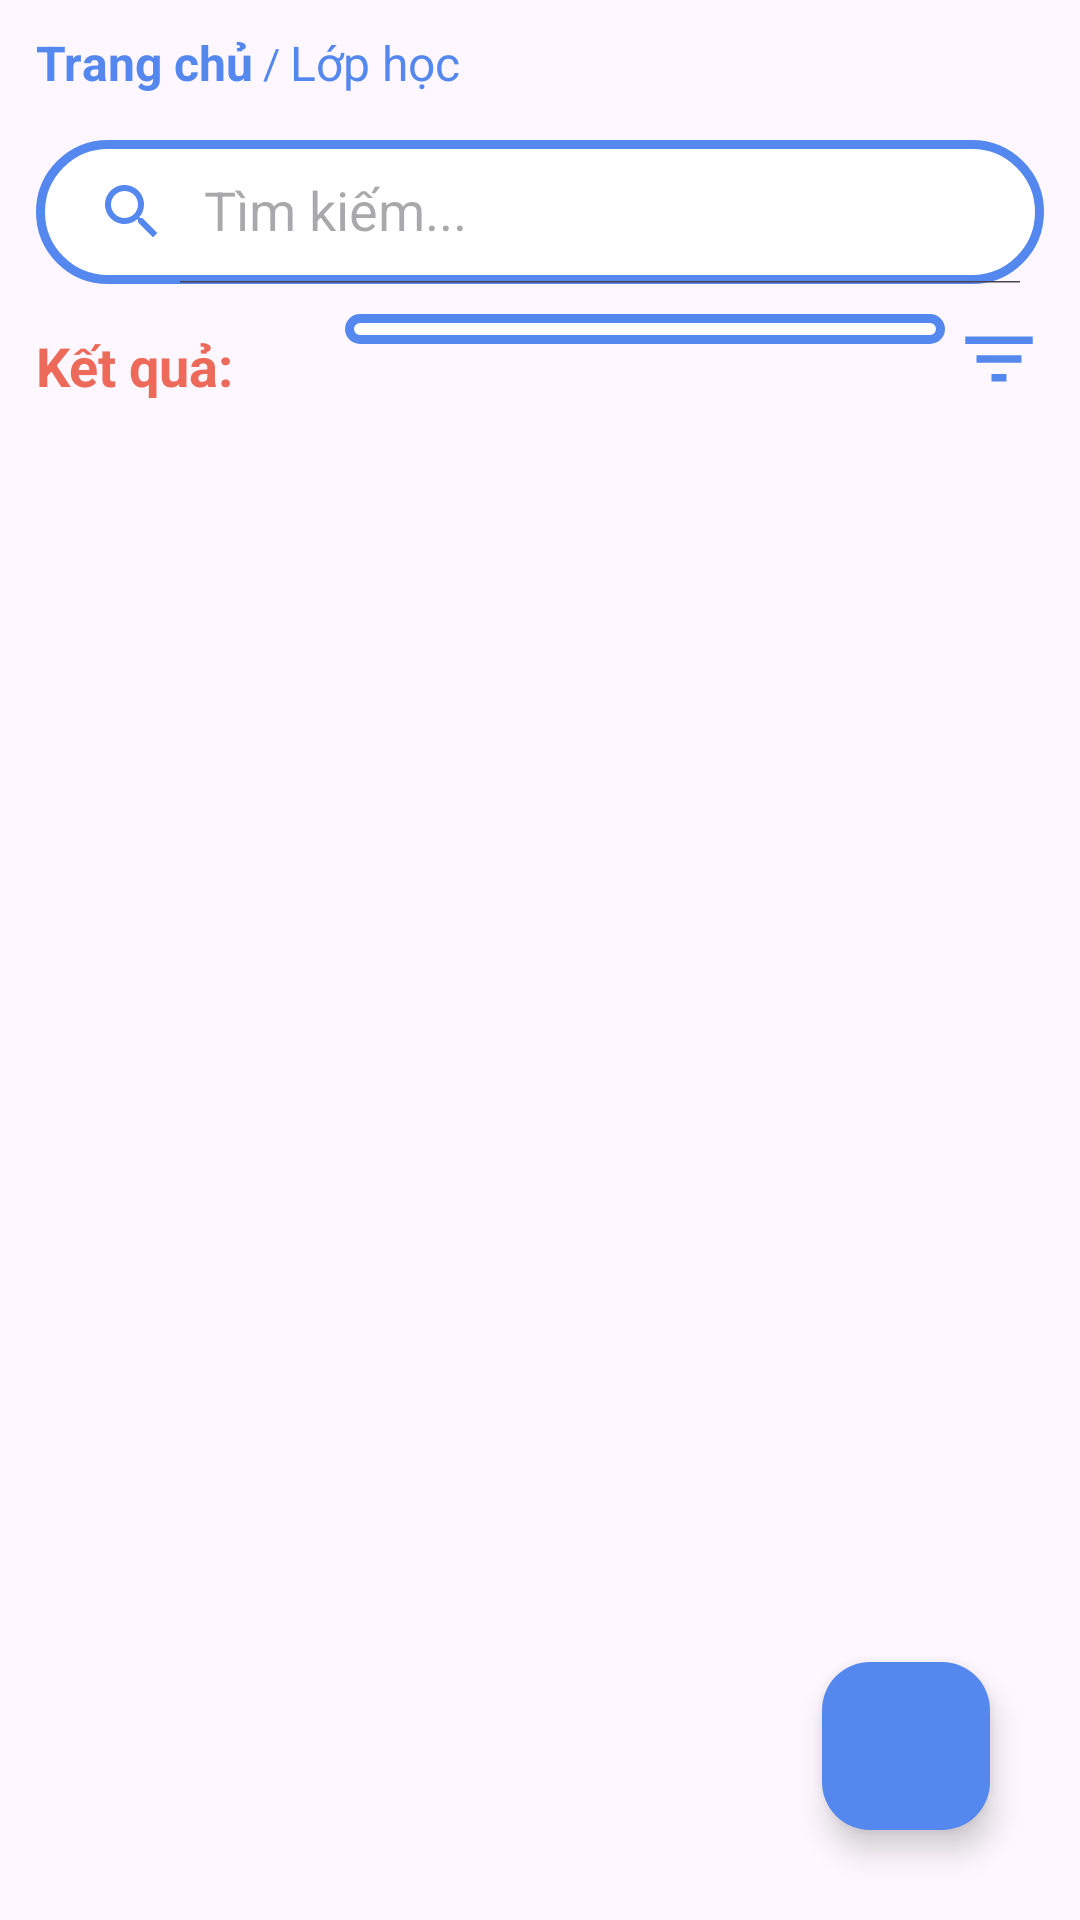

Icon click points for this 1080px×1920px phone screenshot, format (x=x, y=y):
filter list: (x=999, y=359)
